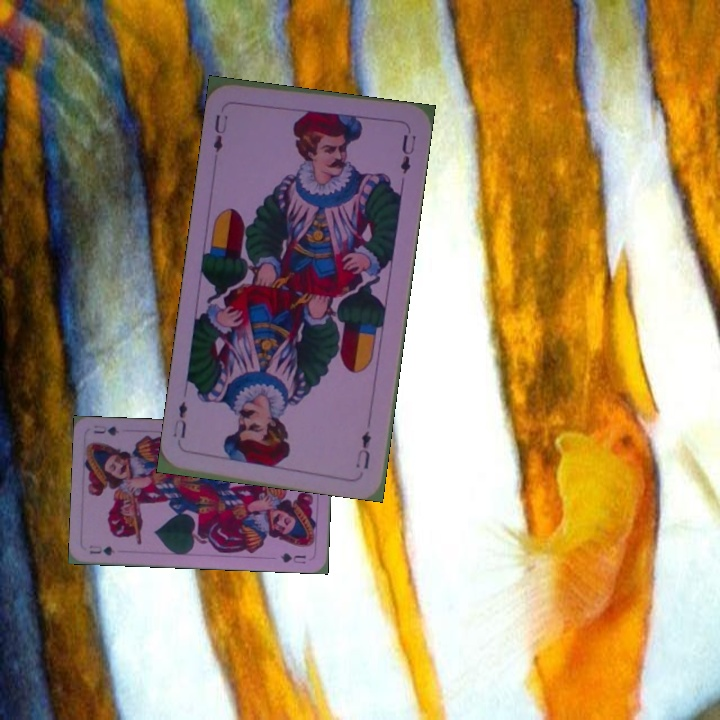EU: (351, 427, 374, 472), (209, 111, 231, 155)
GU: (85, 542, 117, 558)
